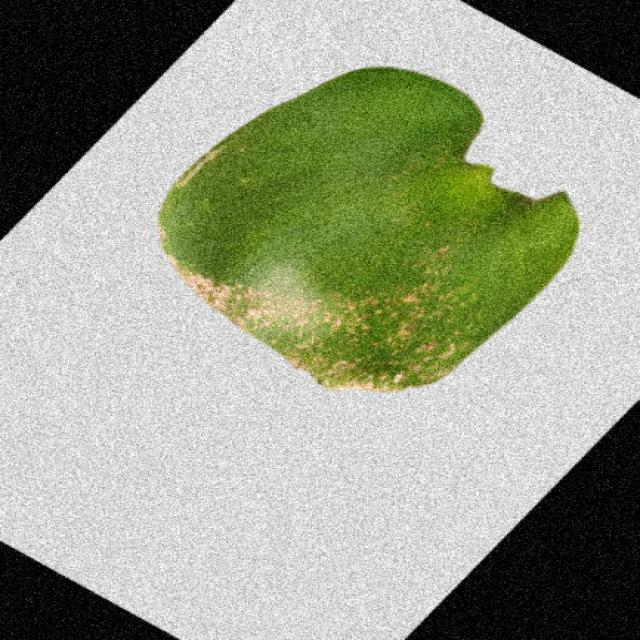daun berpenyakit bercak: (160, 68, 578, 391)
